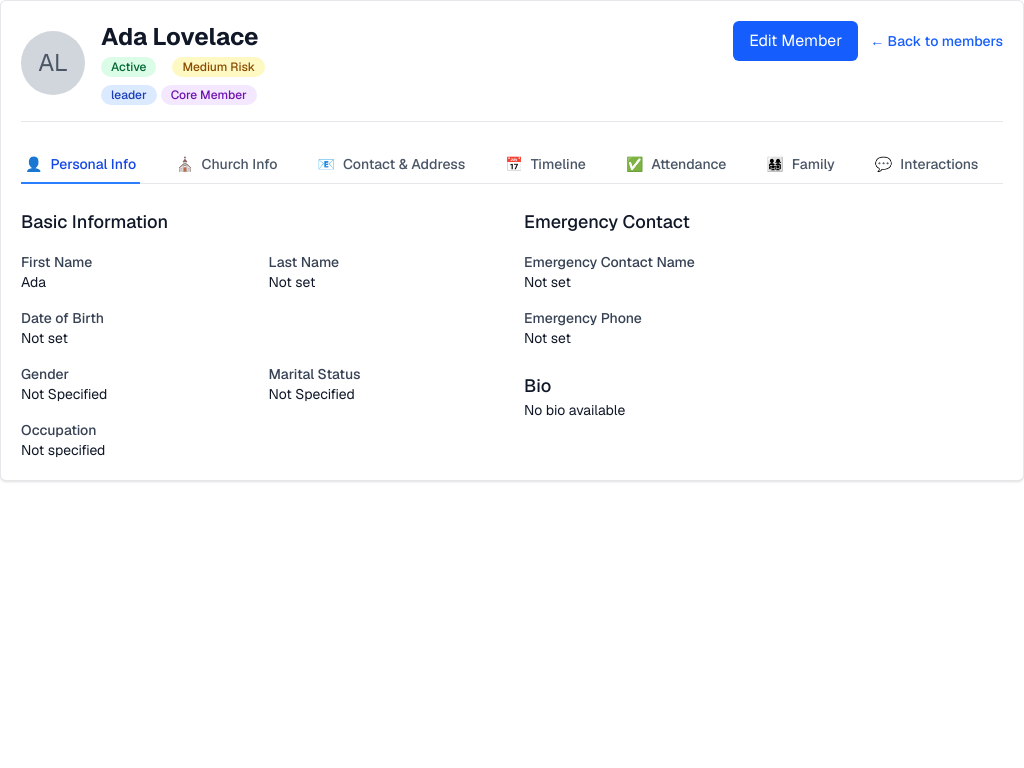
Test case: MemberProfile › shows the computed timeline from its own endpoint and pages through it
The image size is (1024, 768).
Expected: the heading "Ada Lovelace" is shown, [101,21,265,53]
Click the tab "📅 Timeline": [546, 165] box [501,146,590,184]
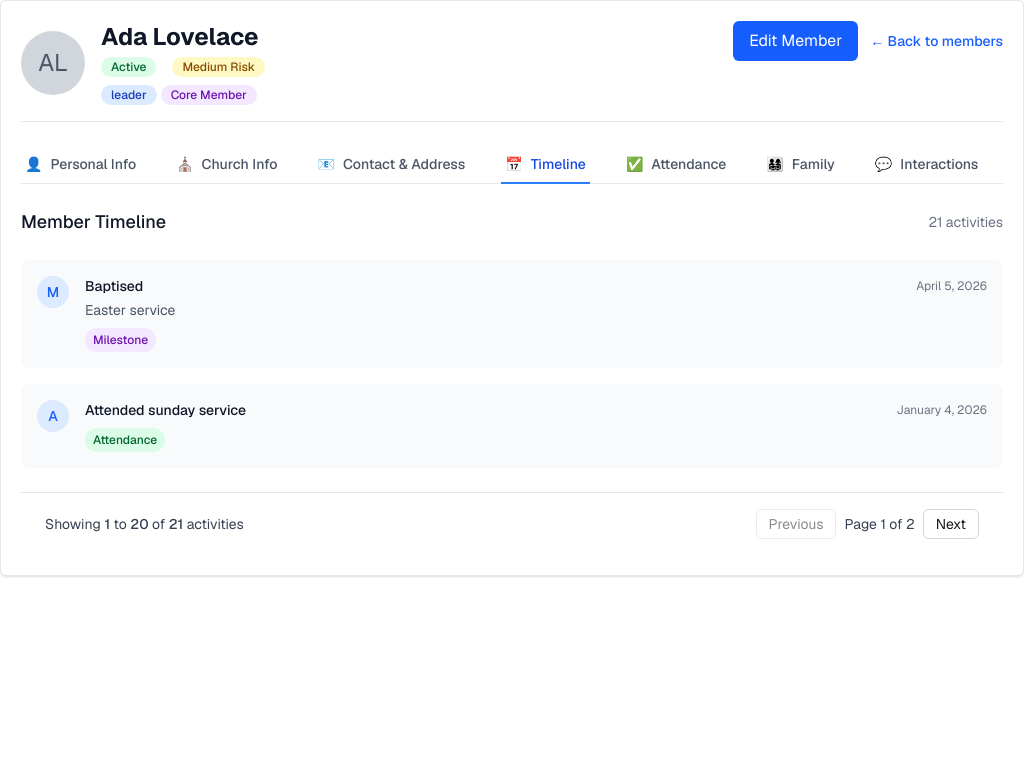
Now the heading "Baptised" is shown, box [85,276,143,296]
Now the text "Easter service" is shown, box [85,301,175,319]
Now the text "Milestone" is shown, box [85,328,156,352]
Click the button "Next": [951, 524] box [923,509,979,539]
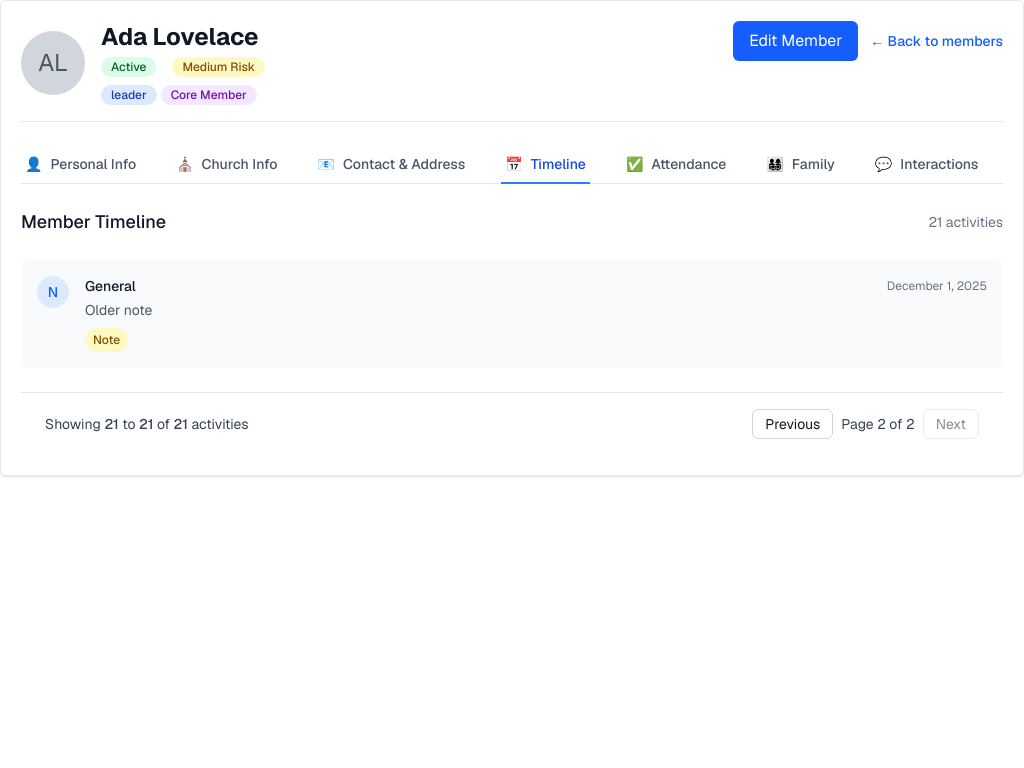
Now the text "Older note" is shown, box [85,301,152,319]
